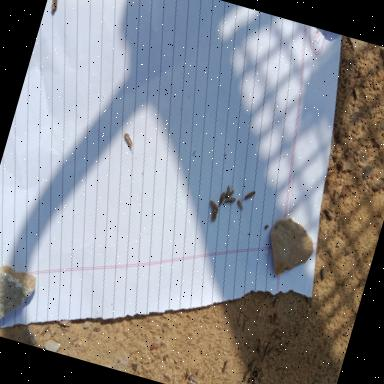pbw: (119, 130, 138, 151), (216, 190, 227, 210), (242, 188, 255, 204), (225, 185, 236, 201), (210, 207, 220, 223), (224, 195, 237, 207), (208, 200, 221, 212), (236, 198, 246, 211)
